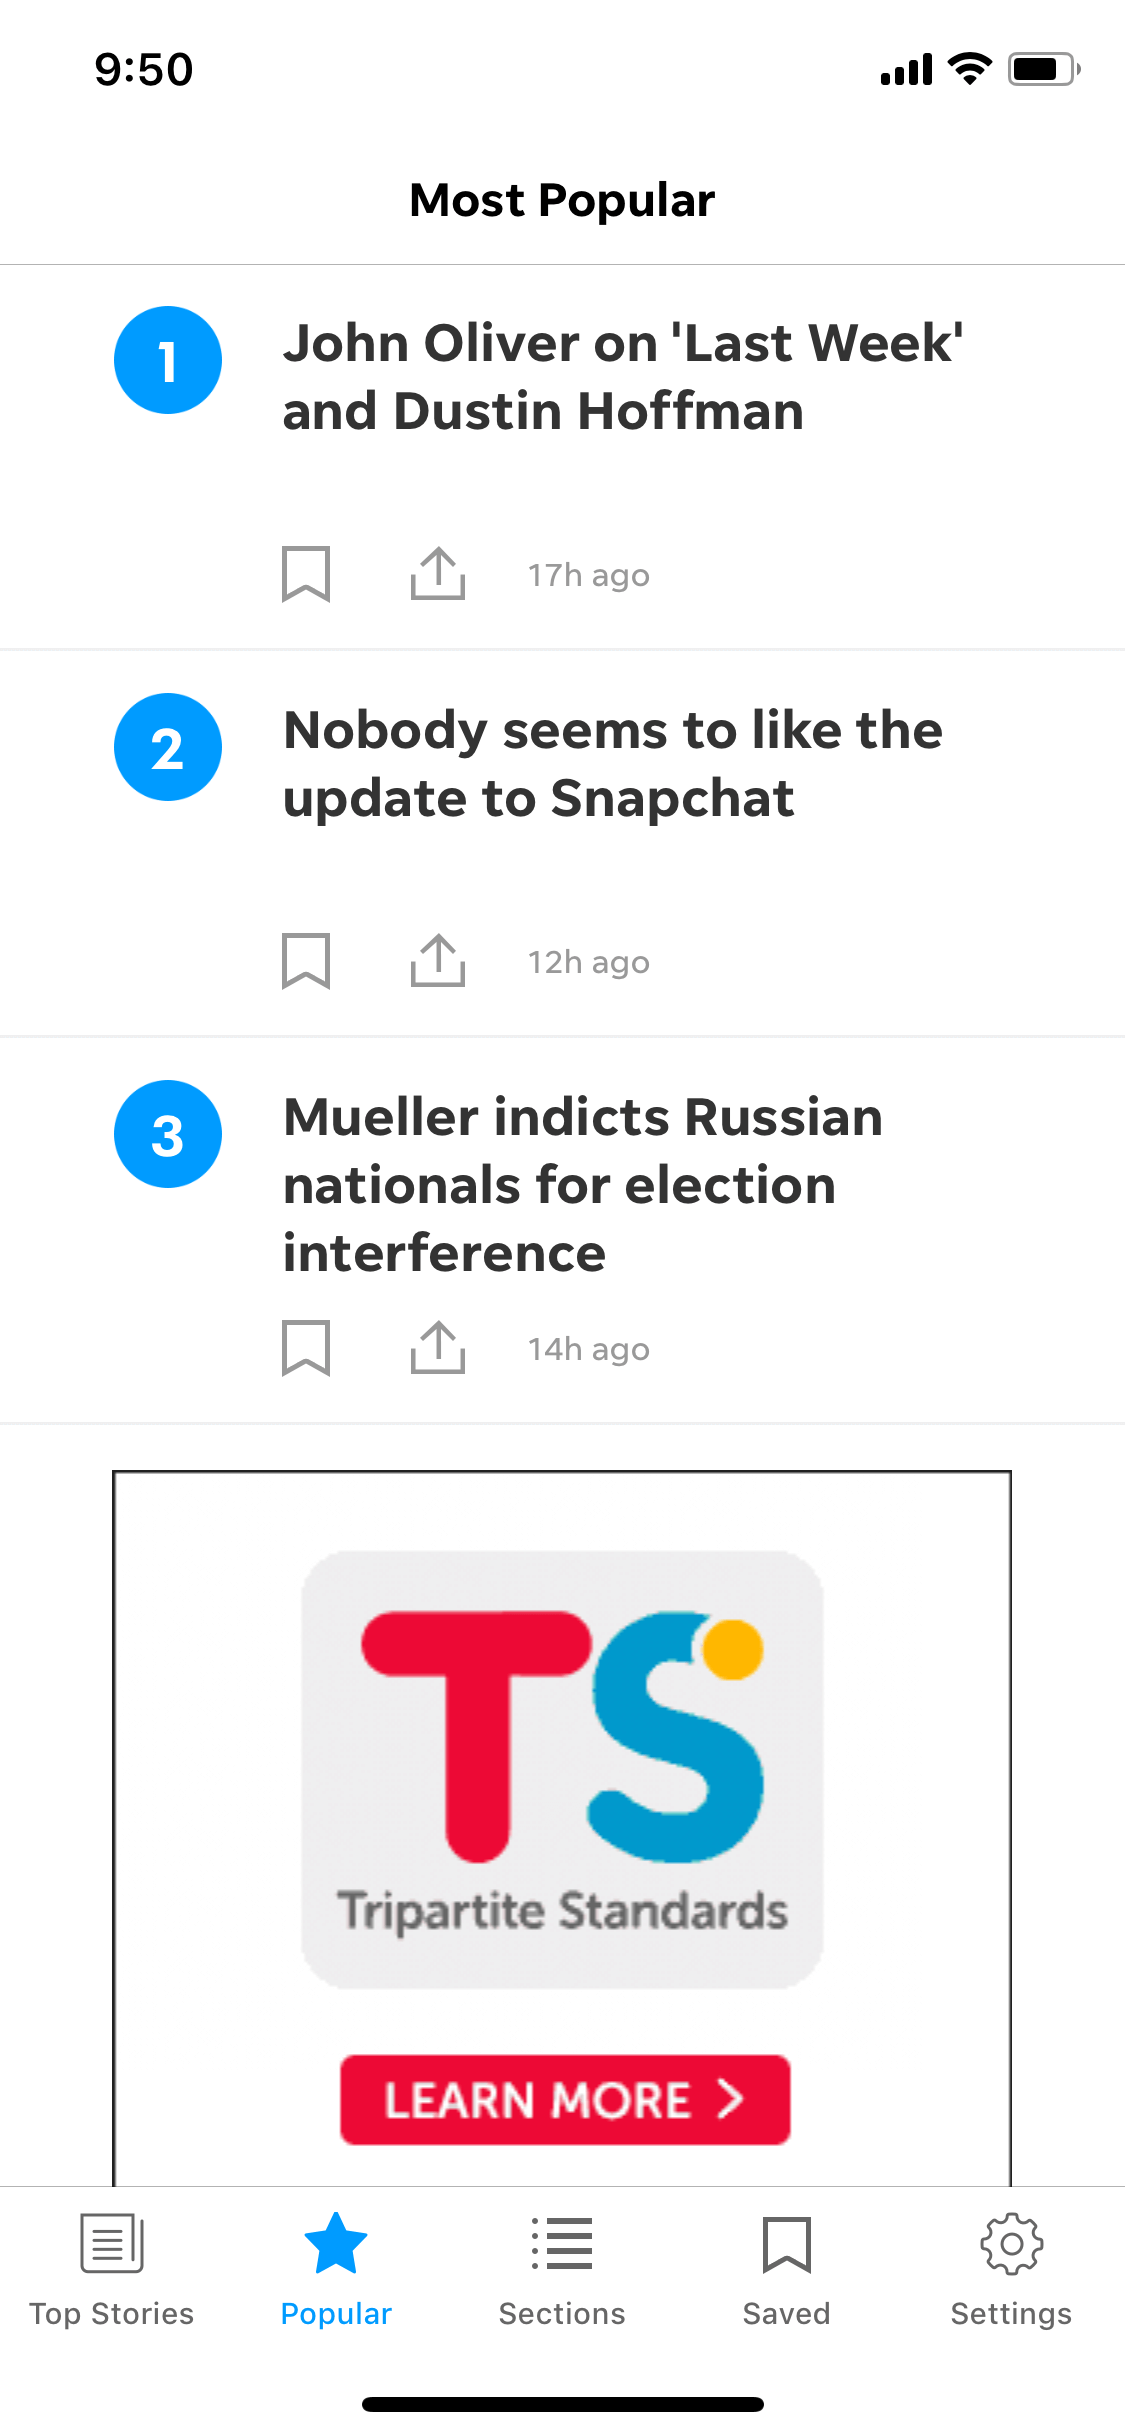Buttons: (308, 2027, 813, 2159), (393, 901, 482, 1013), (259, 907, 354, 1010), (395, 1289, 483, 1395), (256, 525, 354, 620), (259, 1291, 350, 1394), (392, 524, 482, 620)
